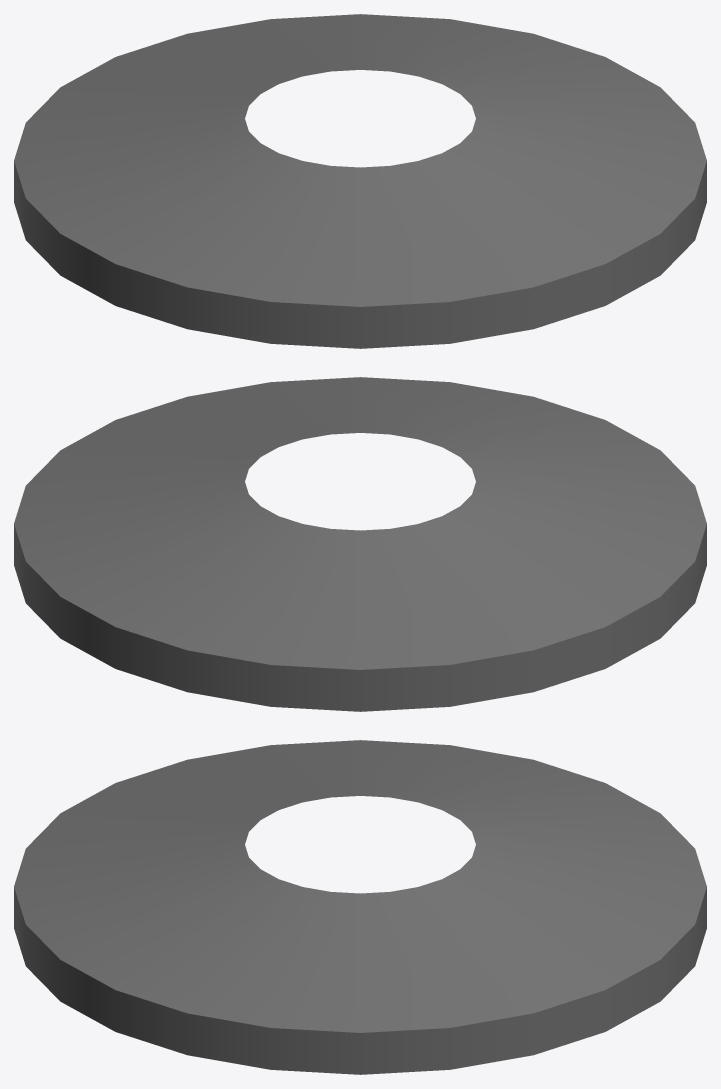
The model's file is vega_adapter_s1p5_s0_1.obj.
3 renders of one model, top to bottom at view 1: azimuth 30°, elevation 25°; view 2: azimuth 150°, elevation 25°; view 3: azimuth 270°, elevation 25°, orthographic.
Visible parts, largest first — view 1: mesh1; view 2: mesh1; view 3: mesh1.
Boxes of the visible parts, <box> form: mesh1: <box>14,14,706,348</box>; mesh1: <box>14,377,706,711</box>; mesh1: <box>14,740,706,1074</box>.
Bounding box in the file's own units: 1.88 × 0.25 × 1.88.
